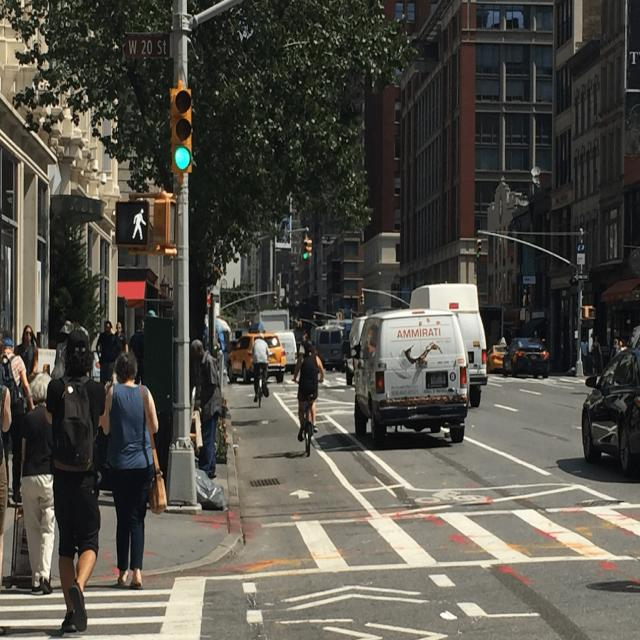body: (44, 328, 110, 636), (100, 351, 168, 589), (19, 372, 56, 596), (0, 336, 37, 509), (190, 339, 222, 481), (292, 341, 324, 443), (0, 374, 14, 583), (14, 324, 39, 386), (250, 330, 271, 402), (95, 320, 114, 387), (129, 318, 147, 388), (297, 330, 316, 363), (130, 207, 146, 241), (114, 321, 129, 355), (591, 334, 603, 376), (60, 318, 86, 335), (581, 334, 589, 374), (143, 309, 163, 319), (611, 339, 619, 358), (618, 340, 625, 350)
